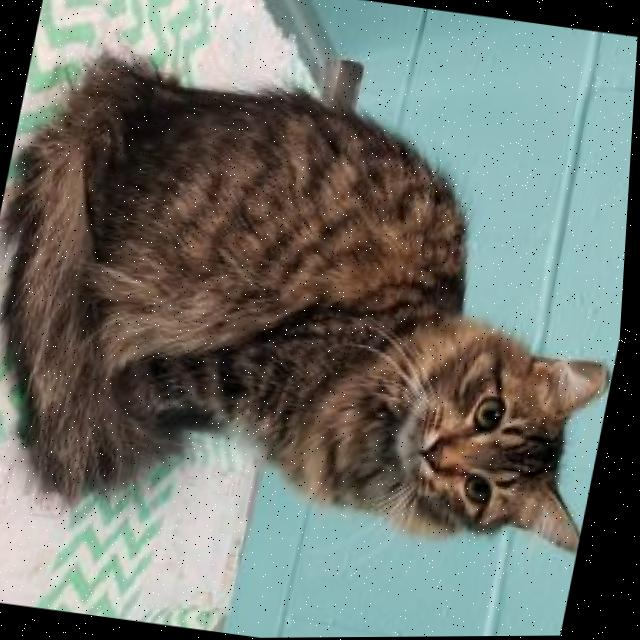Maine Coon: (0, 42, 638, 577)
